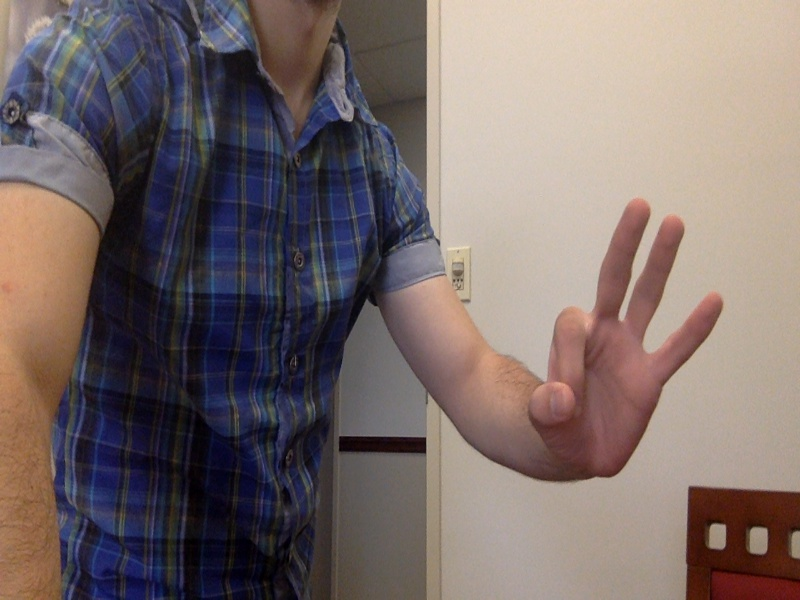3-hand: (531, 199, 725, 491)
